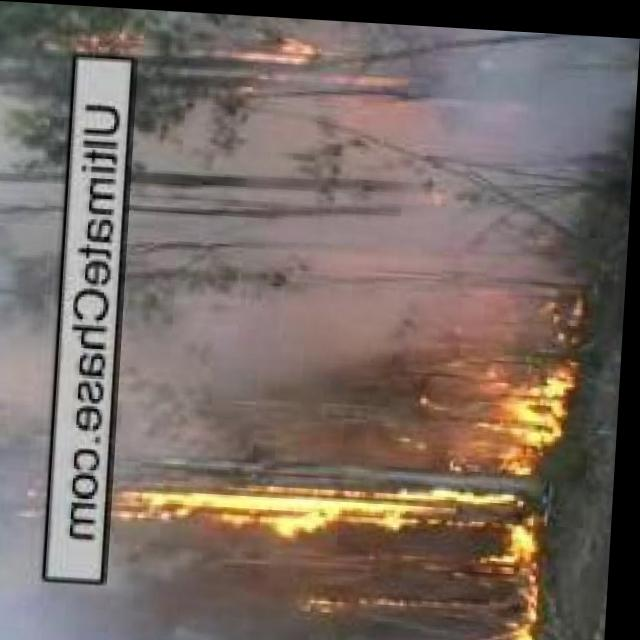Fire: (451, 348, 577, 640), (109, 475, 437, 541), (213, 12, 344, 74), (311, 584, 447, 615), (62, 22, 138, 61)
